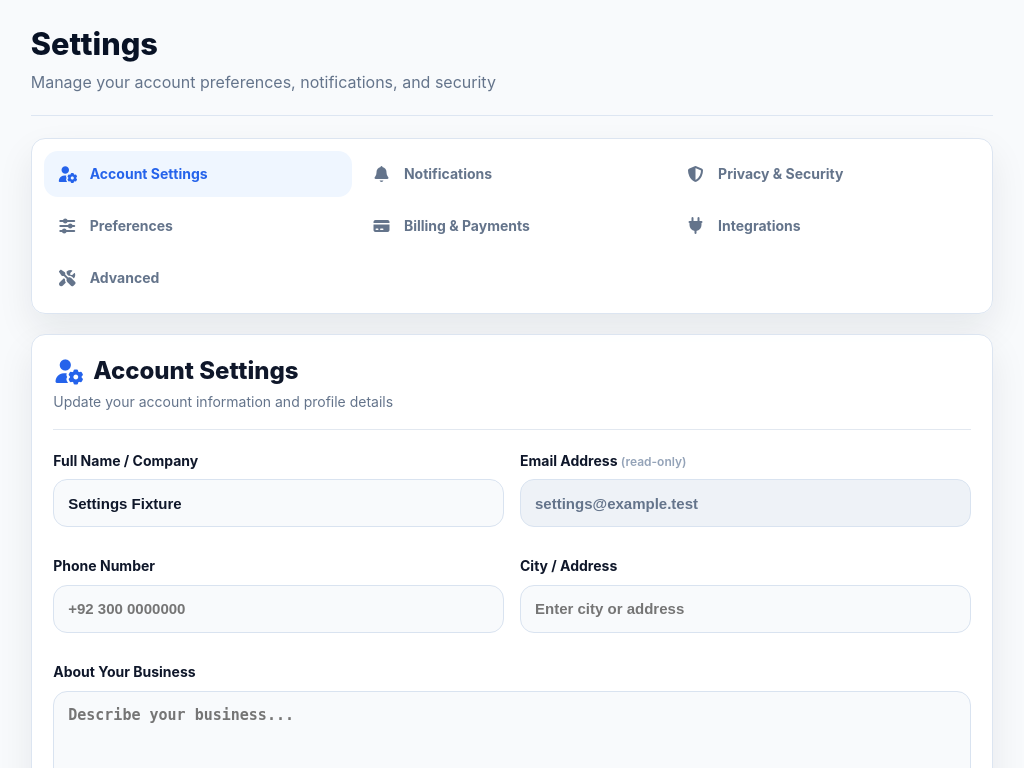
Scenario: OTP resend sends the entered current password and displays a rejected response
The width and height of the screenshot is (1024, 768).
Click the link "Privacy & Security" at (764, 174), box [685, 165, 843, 182]
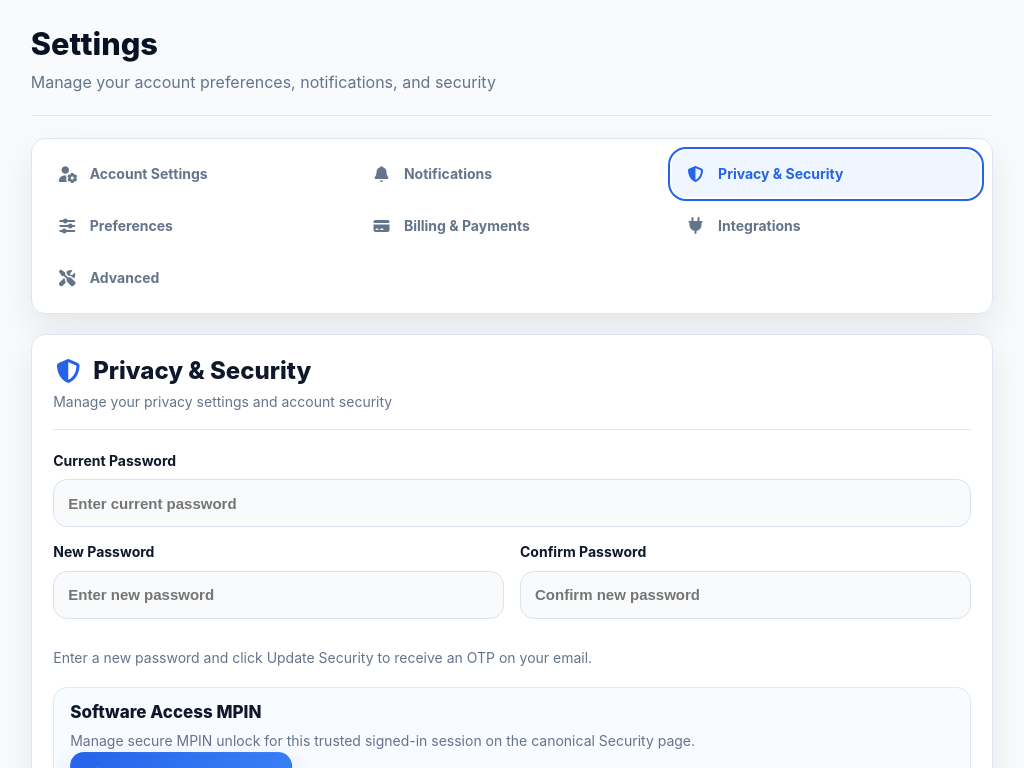
Type "current-password" into the password field with placeholder "Enter current password" at (512, 503), box [53, 479, 971, 527]
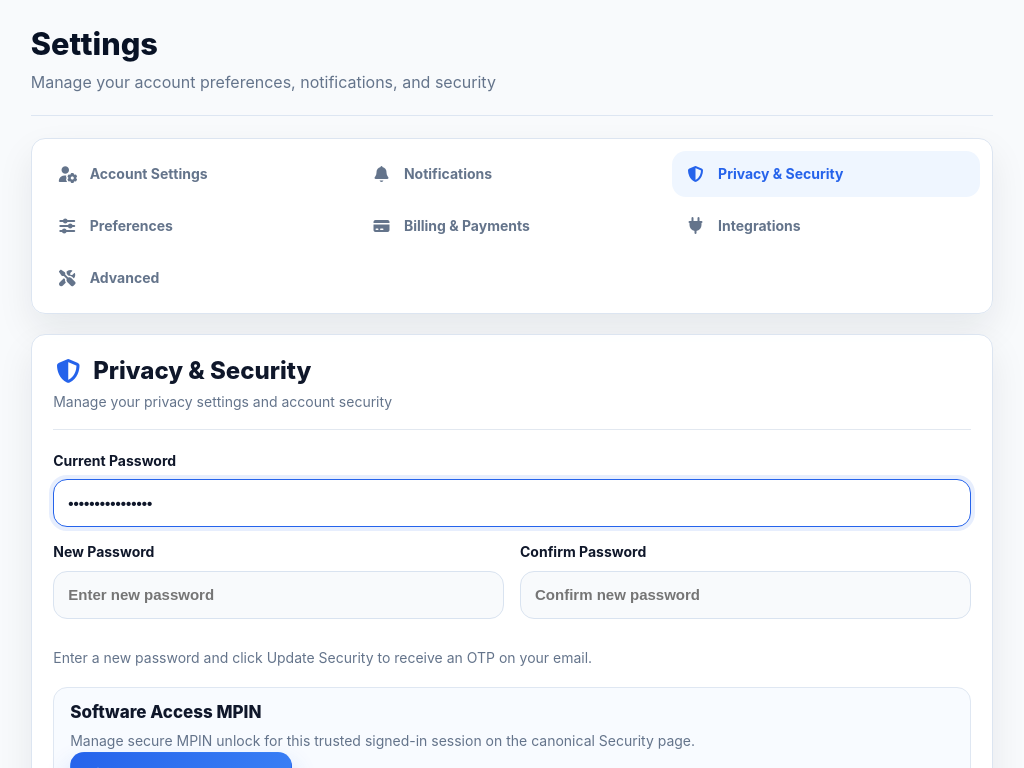
Type "replacement-password" into the password field with placeholder "Enter new password" at (279, 595), box [53, 571, 504, 619]
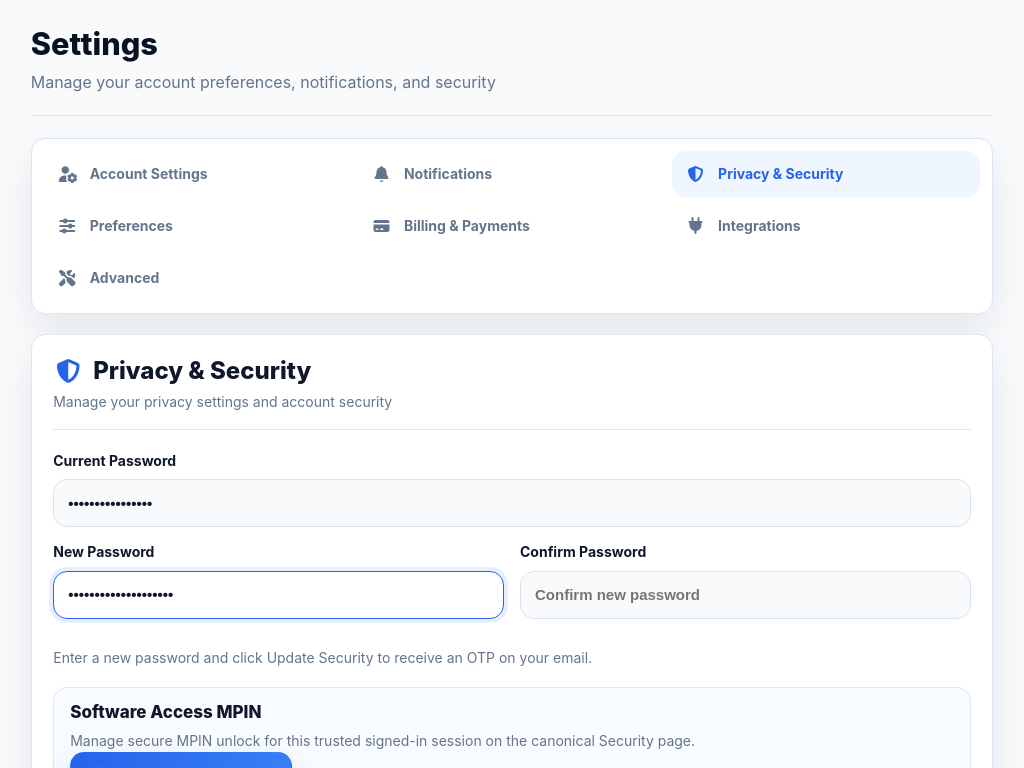
Type "replacement-password" into the password field with placeholder "Confirm new password" at (745, 595), box [520, 571, 971, 619]
(page scrolled)
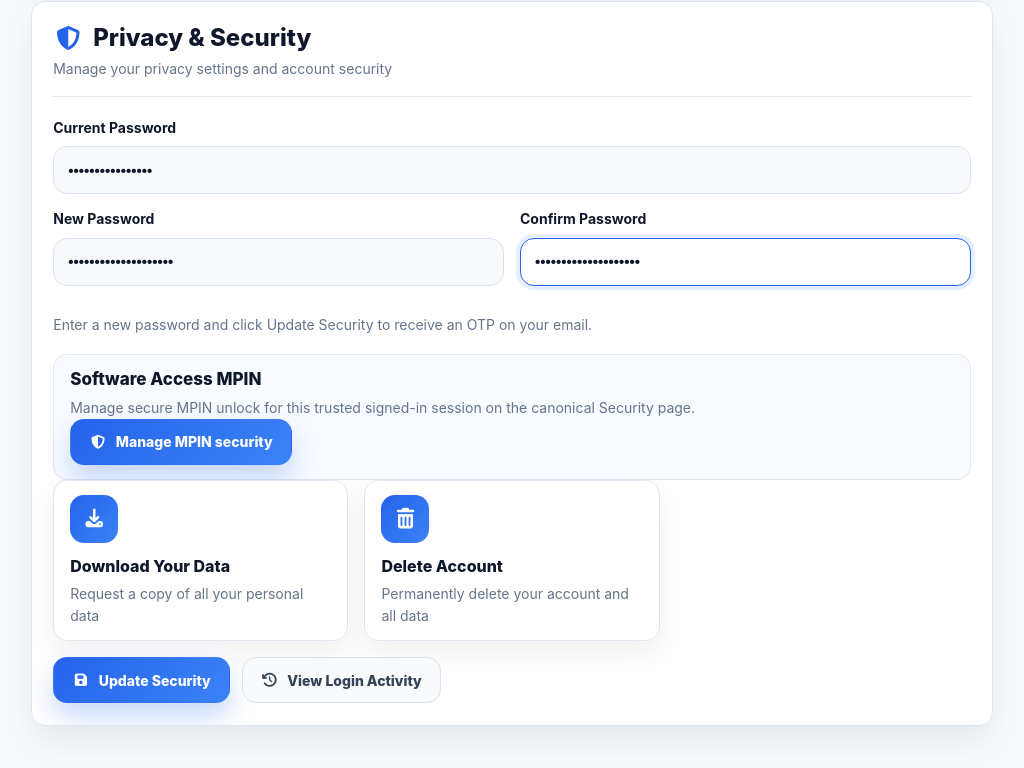
Click the button "Update Security" at (141, 680), box [53, 657, 230, 703]
(page scrolled)
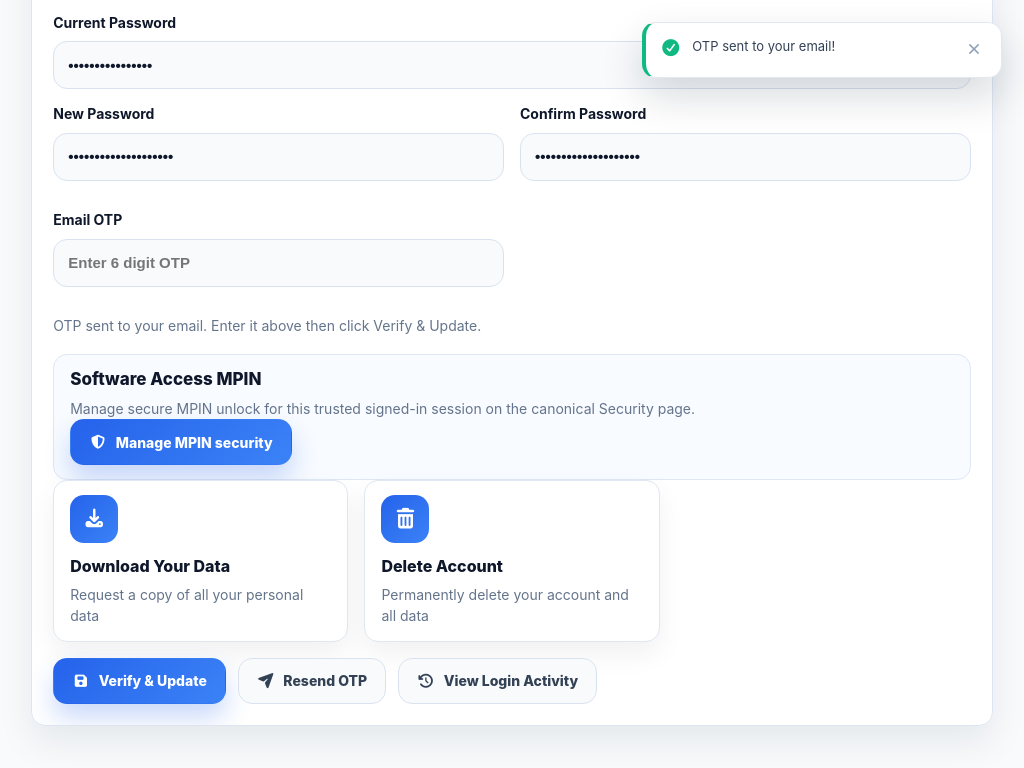
Expected: the field with placeholder "Enter 6 digit OTP" is shown, [53, 239, 504, 287]
Click the button "Resend OTP" at (312, 681), box [238, 658, 386, 704]
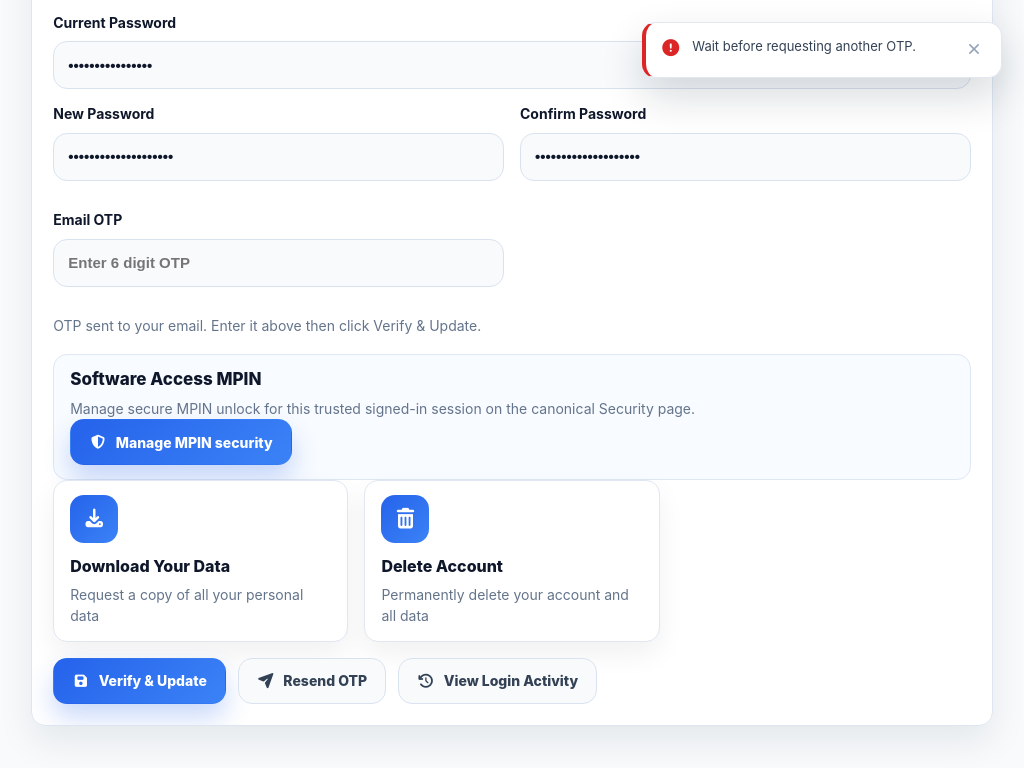
Expected: the button "Resend OTP" is enabled, [238, 658, 386, 704]
Expected: the text "Wait before requesting another OTP." is shown, [692, 37, 950, 56]
